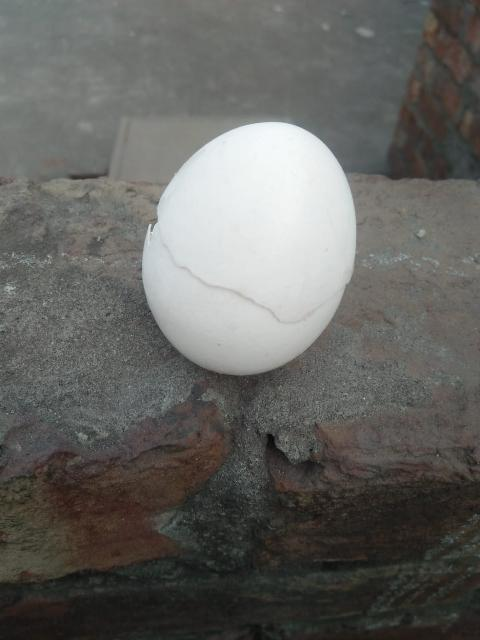Roto: (140, 120, 358, 376)
